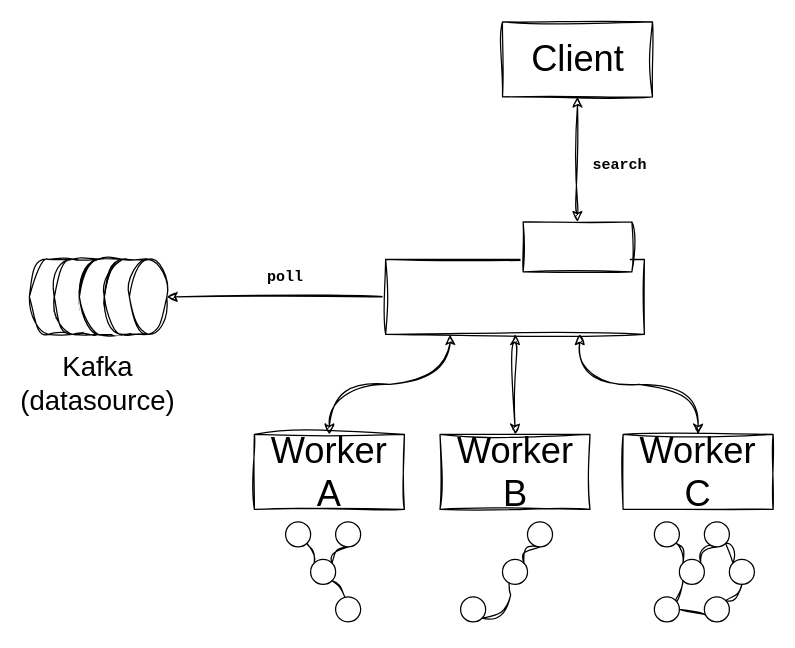
This 795x648 diagram has some shape labels left out. Each missing label, with the centre of its shape:
"API" belongs at point (577, 246).
"Orchestrator" belongs at point (514, 296).
